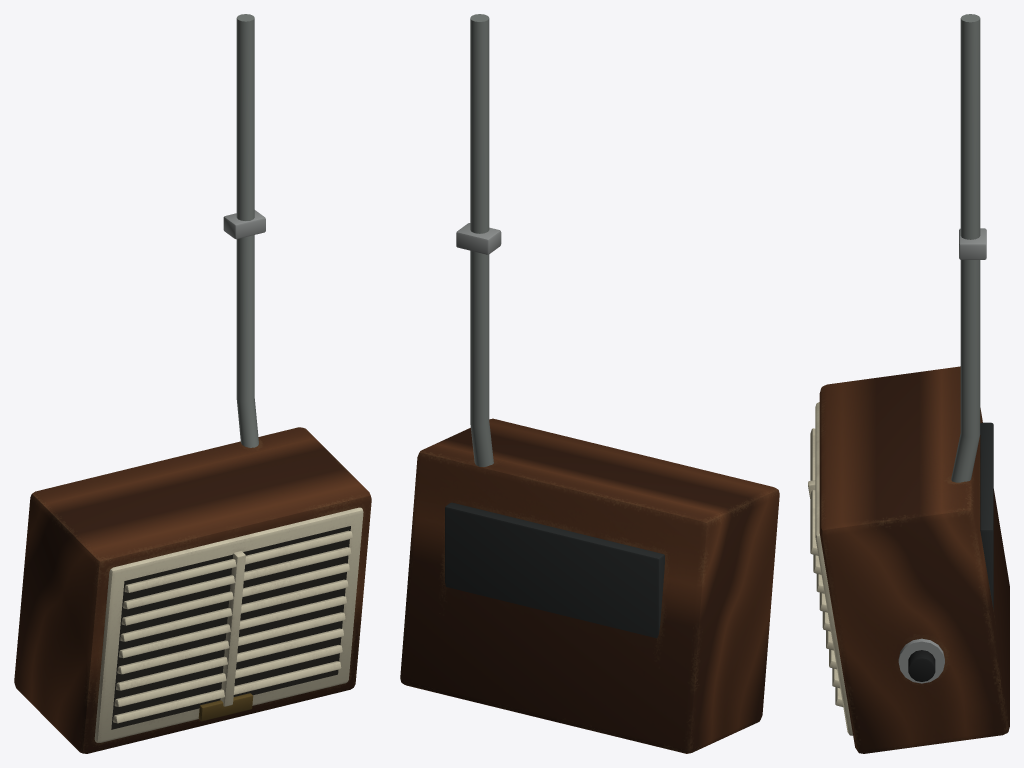
Rendered from CTCC_PROP_PASpeaker.fbx.
3 views of the same model, side by side, from view 1: azimuth 30°, elevation 25°; view 2: azimuth 150°, elevation 25°; view 3: azimuth 270°, elevation 25° (orthographic). The views are drawn at different scales.
Visible parts, largest first — view 1: CTCC_PROP_PASpeaker_LOD0; view 2: CTCC_PROP_PASpeaker_LOD0; view 3: CTCC_PROP_PASpeaker_LOD0.
Part boxes in pixels (x1=…): CTCC_PROP_PASpeaker_LOD0: x1=14, y1=14, x2=371, y2=753; CTCC_PROP_PASpeaker_LOD0: x1=400, y1=14, x2=779, y2=753; CTCC_PROP_PASpeaker_LOD0: x1=808, y1=14, x2=1009, y2=753.
Size of what is drawn, in the model's own units: 0.322 by 0.6727 by 0.1741.
